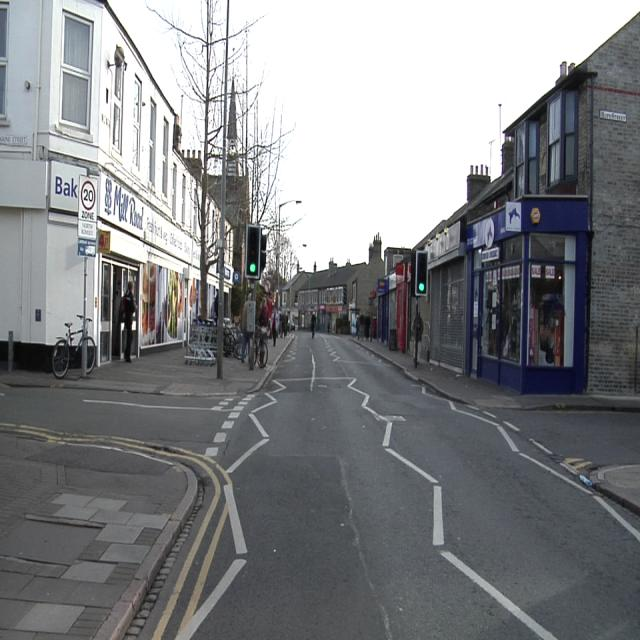Building: (293, 12, 639, 407), (3, 4, 194, 365)
Road: (124, 333, 635, 639)
Tree: (146, 0, 264, 225)
person: (122, 285, 135, 360), (414, 310, 423, 364)
